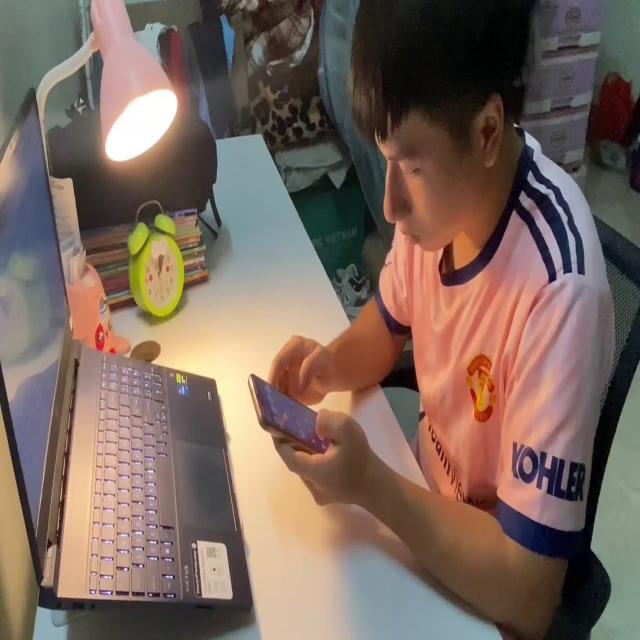laptop: (1, 85, 255, 623)
phone: (246, 368, 333, 456)
student: (268, 0, 611, 640)
